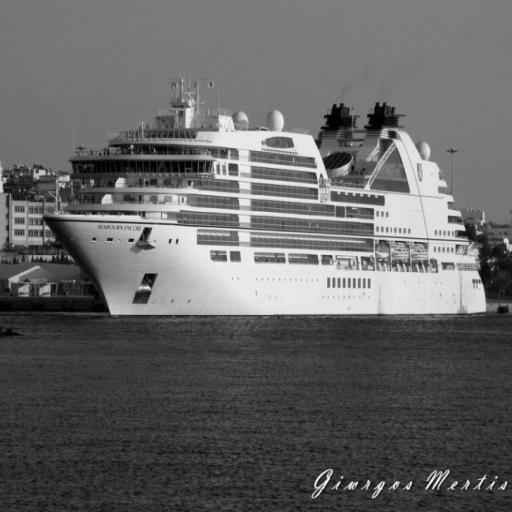cruises: (38, 75, 492, 327)
